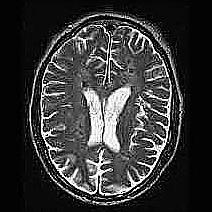Normal_Brain: (9, 1, 212, 212)
